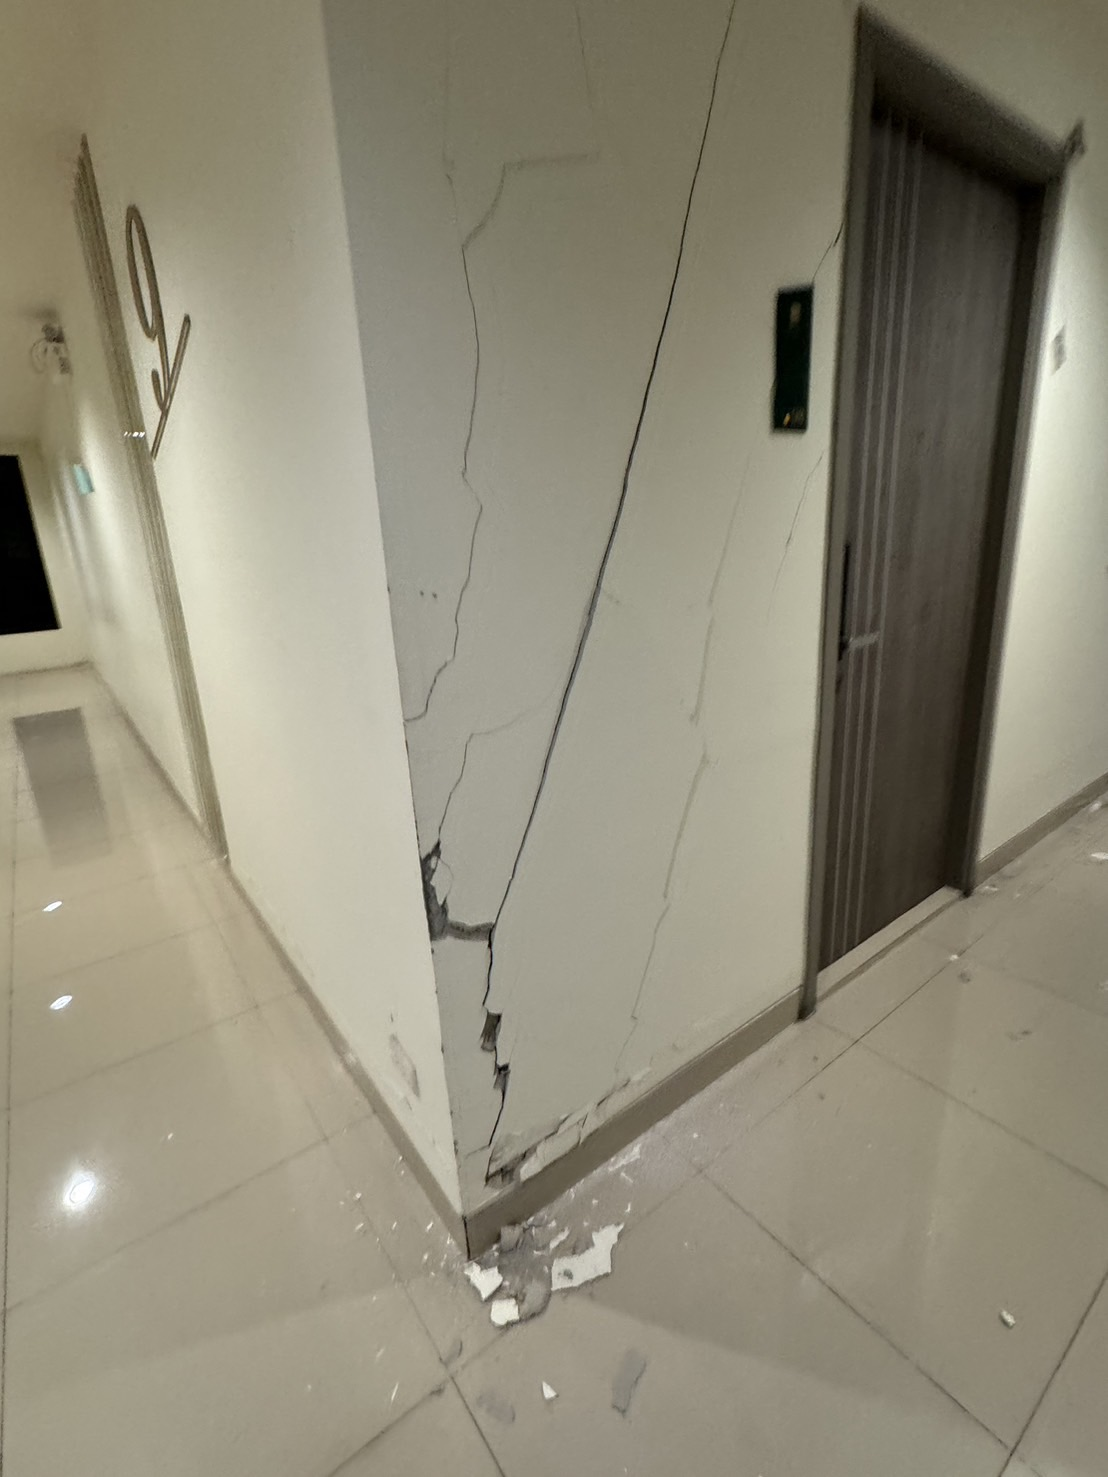Medium: (467, 435, 665, 1156)
